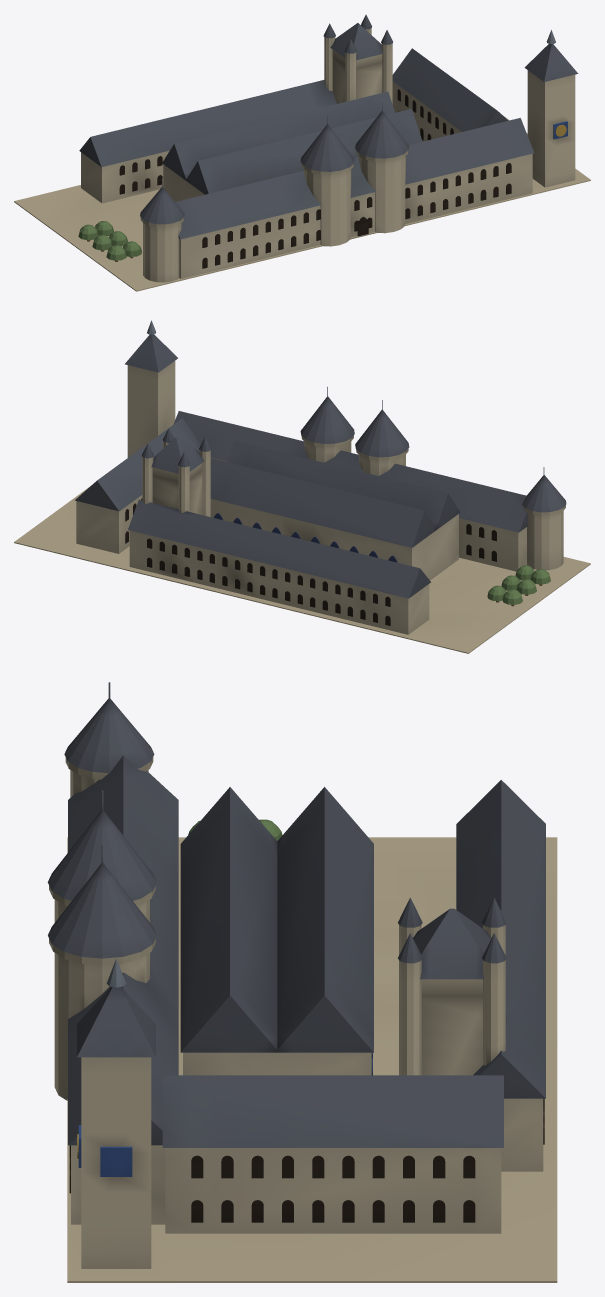
File: palais-cite.glb
The picture shows the model from 3 angles, top to bottom: view 1: azimuth 30°, elevation 25°; view 2: azimuth 150°, elevation 25°; view 3: azimuth 270°, elevation 25°; orthographic projection. The views are drawn at different scales.
Visible parts, largest first — view 1: p0_conciergerie, p1_great hall; view 2: p1_great hall, p0_conciergerie; view 3: p1_great hall, p0_conciergerie.
Boxes of the visible parts, x1,y1,x2,y2 form: p0_conciergerie: (14, 30, 590, 291); p1_great hall: (78, 14, 508, 261); p1_great hall: (75, 418, 550, 634); p0_conciergerie: (14, 320, 590, 653); p1_great hall: (162, 780, 545, 1233); p0_conciergerie: (47, 682, 557, 1282).
Bounding box in the file's own units: 150 × 47 × 72.82.
